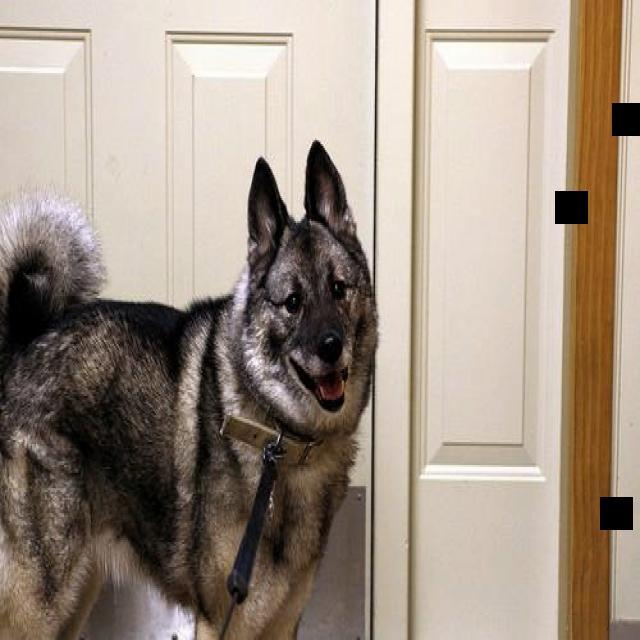adult_dog: (1, 135, 382, 640)
